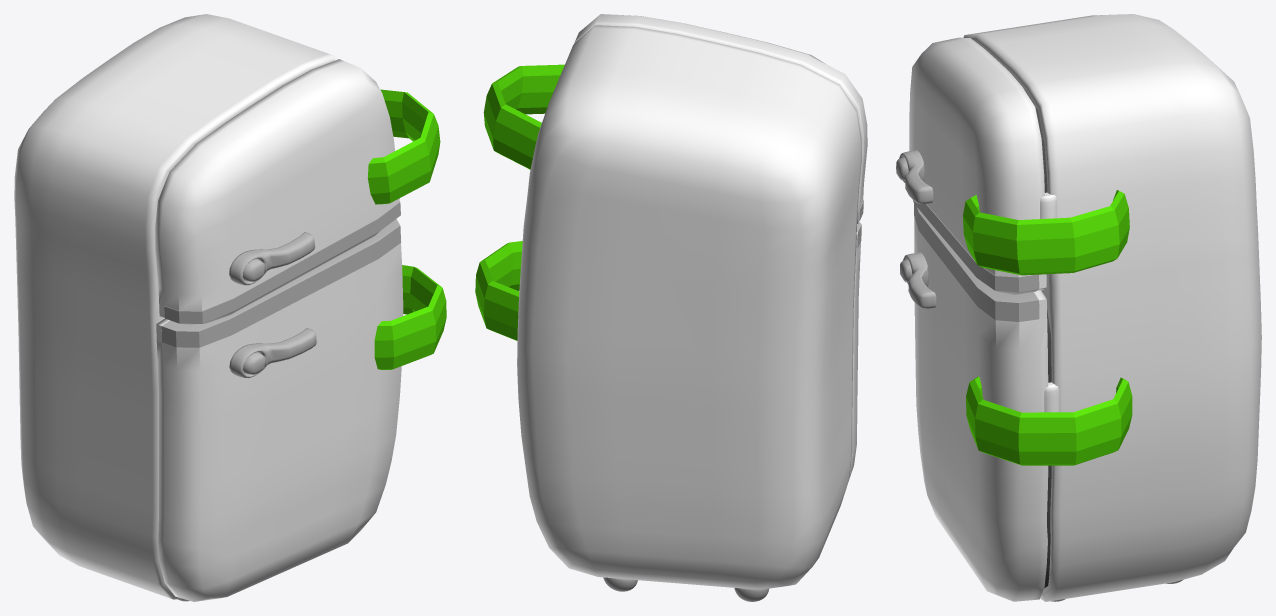
Rendered from fridge.fbx.
3 renders of one model, left to right at view 1: azimuth 30°, elevation 25°; view 2: azimuth 150°, elevation 25°; view 3: azimuth 270°, elevation 25°, orthographic. The views are drawn at different scales.
Visible parts, largest first — view 1: Body, polySurface40, polySurface44, Cntrl_up, Cntrl_dwn; view 2: Body, Cntrl_up, polySurface44, Cntrl_dwn, polySurface40; view 3: Body, polySurface40, polySurface44, Cntrl_up, Cntrl_dwn.
Boxes of the visible parts, left/top/right/bottom form: Body: left=14, top=14, right=337, bottom=599; polySurface40: left=156, top=219, right=403, bottom=601; polySurface44: left=155, top=59, right=400, bottom=324; Cntrl_up: left=367, top=89, right=440, bottom=204; Cntrl_dwn: left=374, top=265, right=446, bottom=369; Body: left=517, top=25, right=861, bottom=589; Cntrl_up: left=483, top=64, right=564, bottom=169; polySurface44: left=574, top=14, right=867, bottom=223; Cntrl_dwn: left=475, top=241, right=522, bottom=340; polySurface40: left=849, top=222, right=861, bottom=478; Body: left=963, top=14, right=1261, bottom=601; polySurface40: left=900, top=204, right=1058, bottom=601; polySurface44: left=896, top=37, right=1056, bottom=294; Cntrl_up: left=963, top=190, right=1129, bottom=275; Cntrl_dwn: left=966, top=376, right=1132, bottom=465.
Size of the model in its own units: 6.45 by 8.19 by 5.16.
